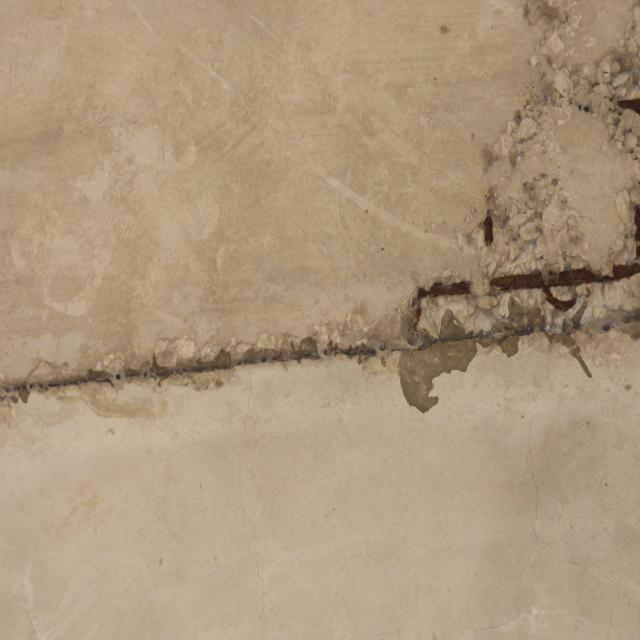corrosion: (0, 308, 247, 439), (0, 515, 73, 556), (248, 320, 248, 322)
